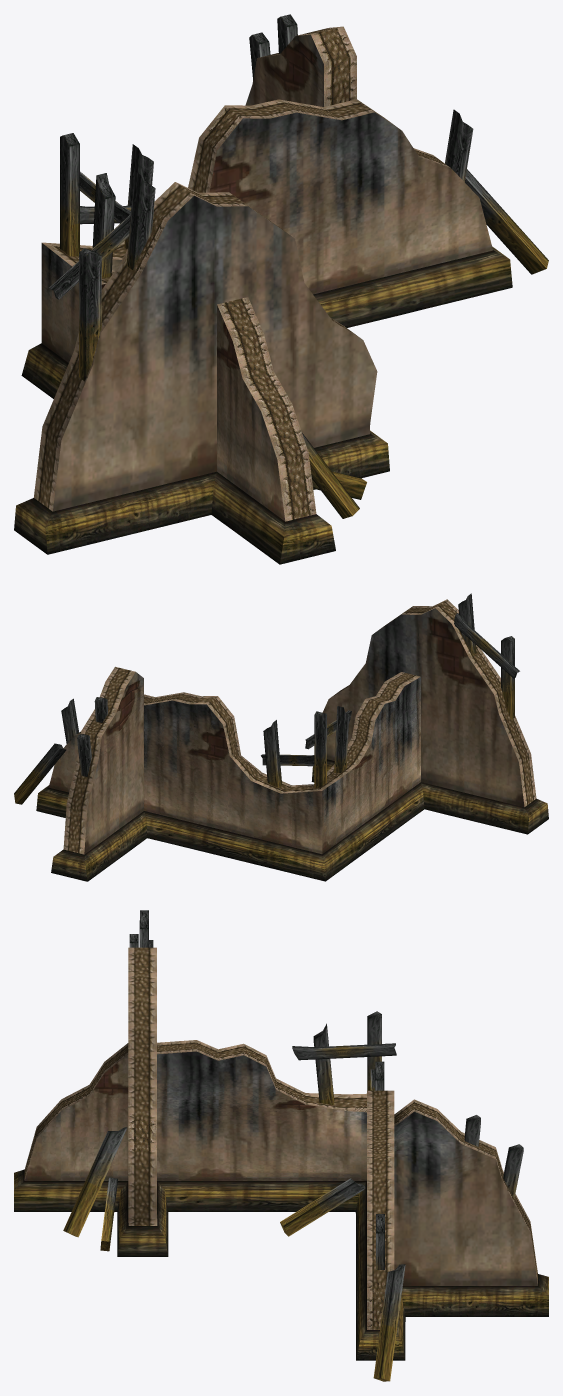
The model's file is CB_BRKN_BUILDING07.fbx.
3 views of the same model, one above another, from view 1: azimuth 30°, elevation 25°; view 2: azimuth 150°, elevation 25°; view 3: azimuth 270°, elevation 25° (orthographic). The views are drawn at different scales.
Parts seen in each view (by area): view 1: CB_BRKN_BUILDING07; view 2: CB_BRKN_BUILDING07; view 3: CB_BRKN_BUILDING07.
Part boxes in pixels (x1=…): CB_BRKN_BUILDING07: x1=14, y1=14, x2=548, y2=564; CB_BRKN_BUILDING07: x1=14, y1=593, x2=548, y2=881; CB_BRKN_BUILDING07: x1=14, y1=910, x2=548, y2=1381.
Bounding box in the file's own units: 267523 × 134367 × 242330.
5 materials, 5 textured.
